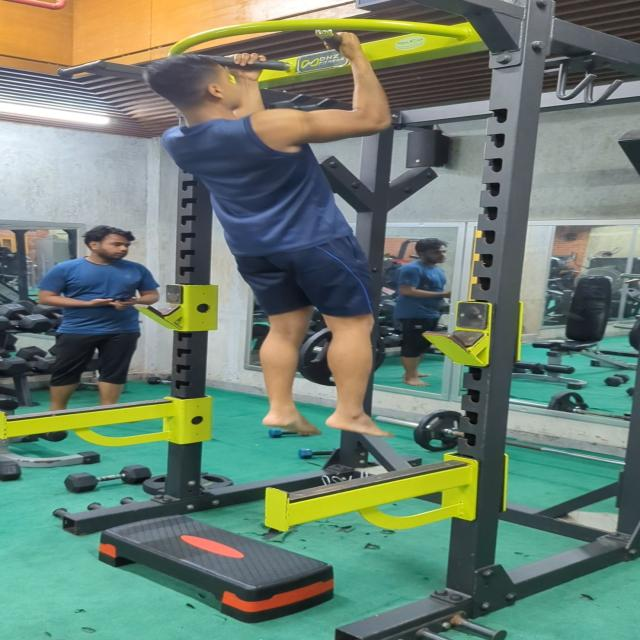Normal_PullUps: (137, 30, 397, 440)
